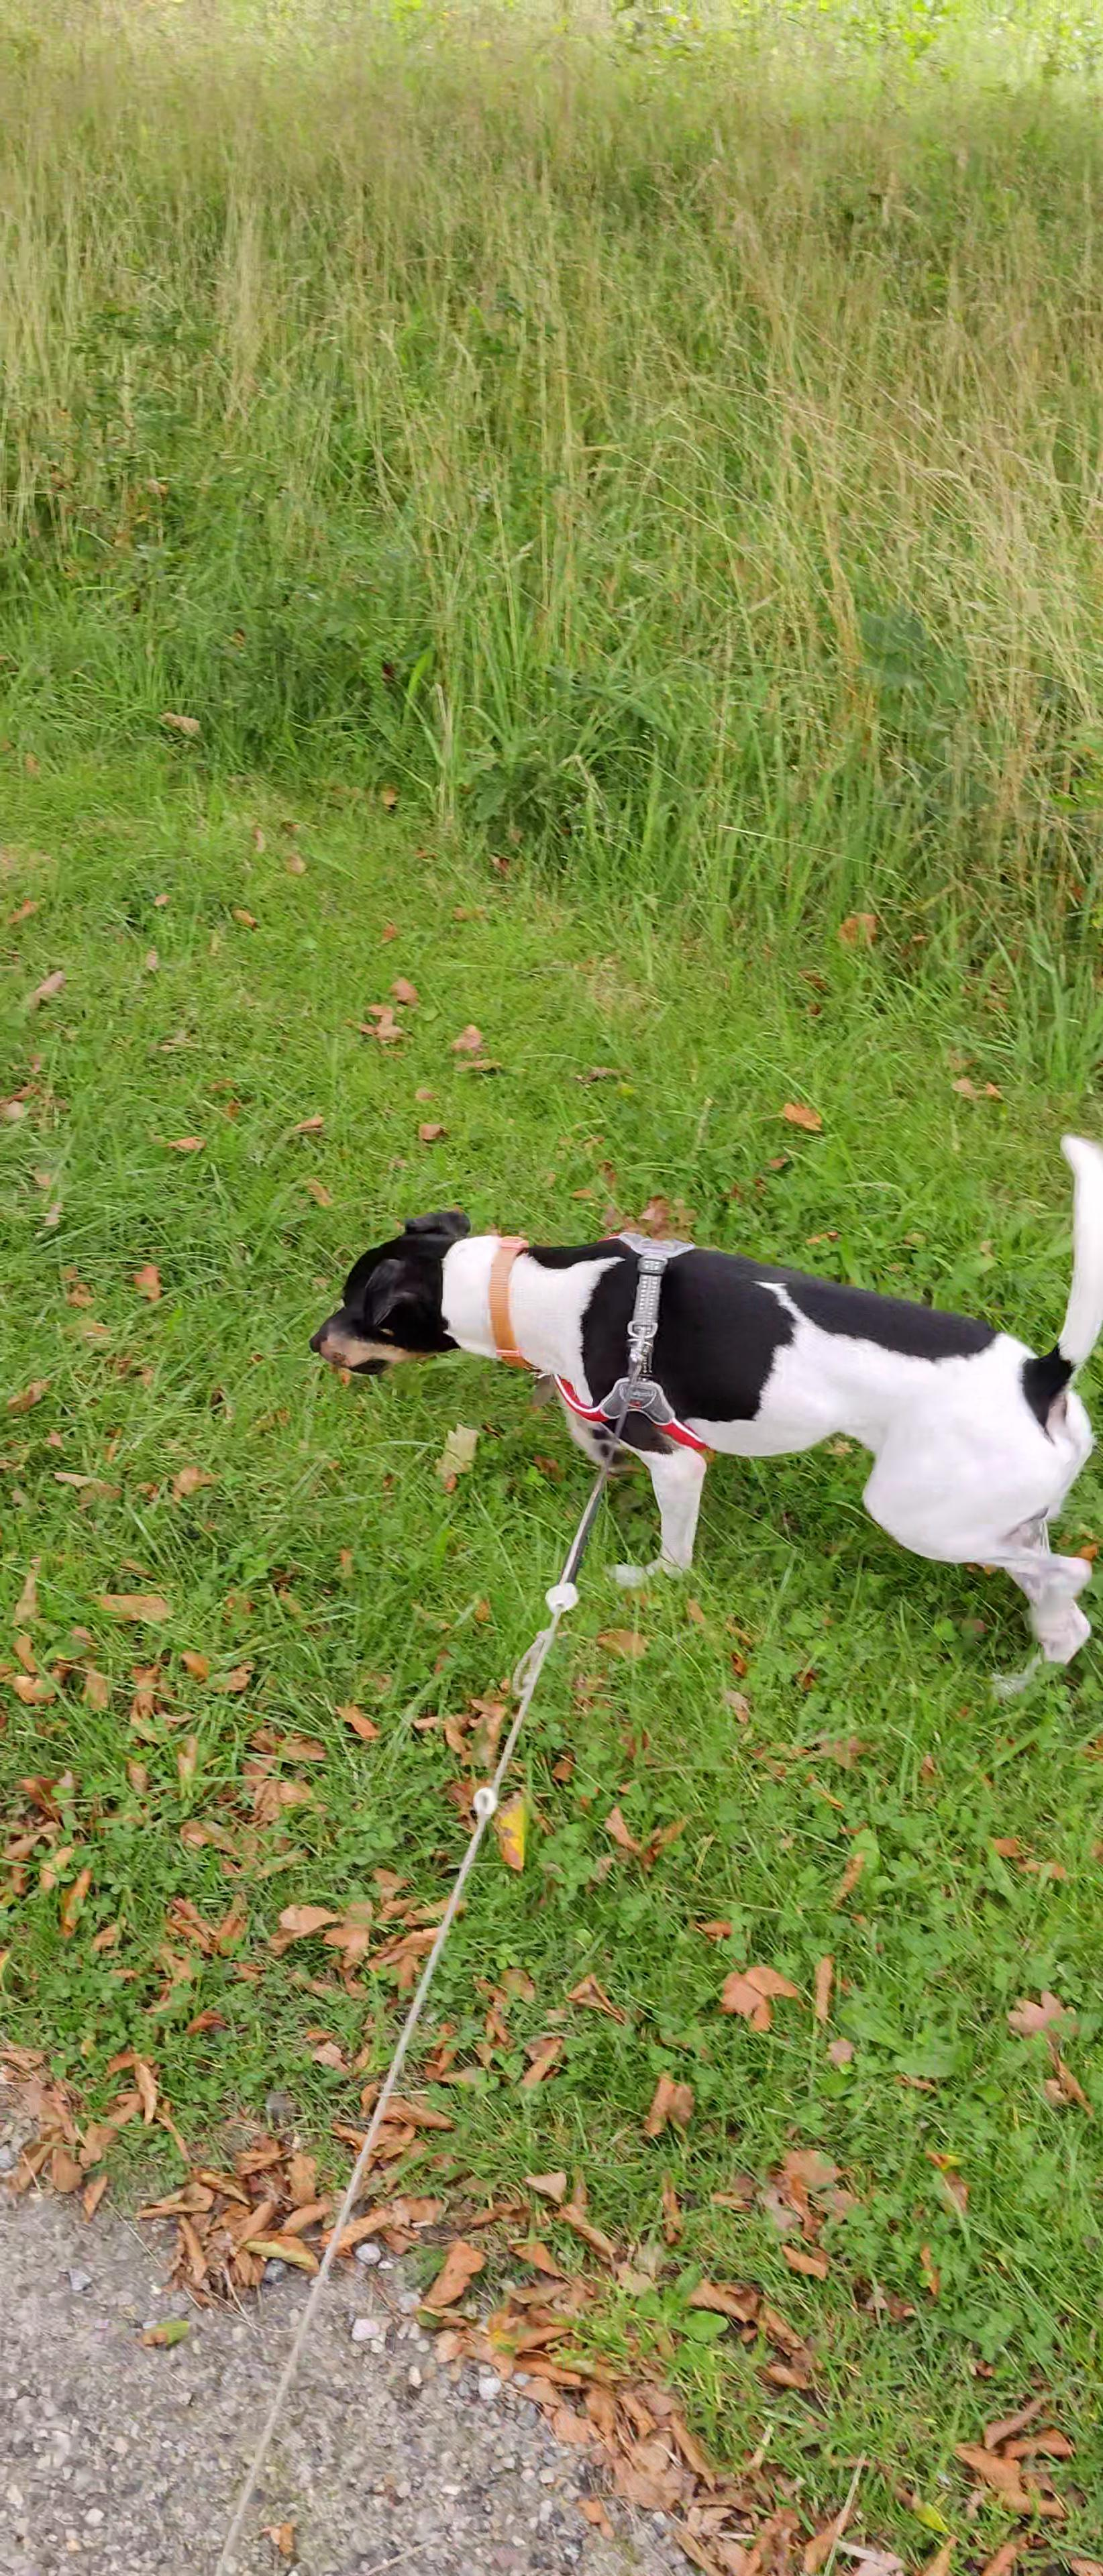Dog: (302, 1127, 1103, 1692)
